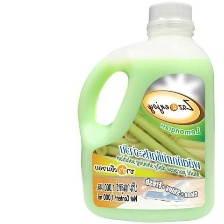cleaning_solution: (74, 0, 217, 224)
